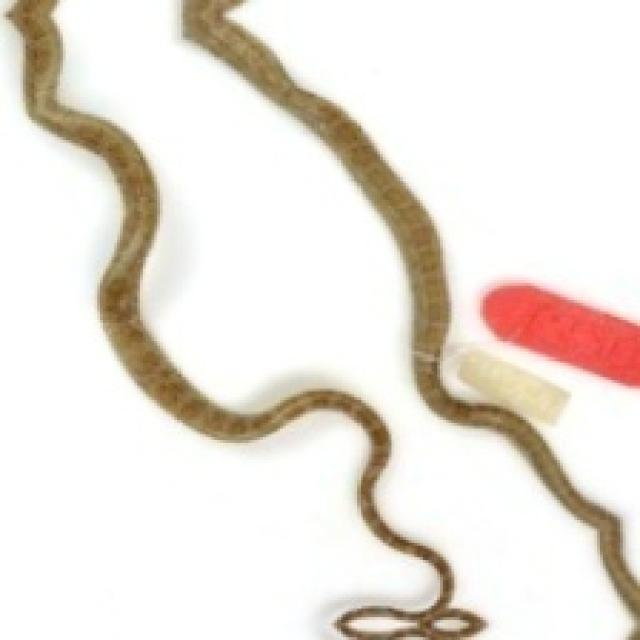mullers wolf snake: (54, 0, 631, 637), (0, 0, 434, 637), (234, 0, 637, 574)
